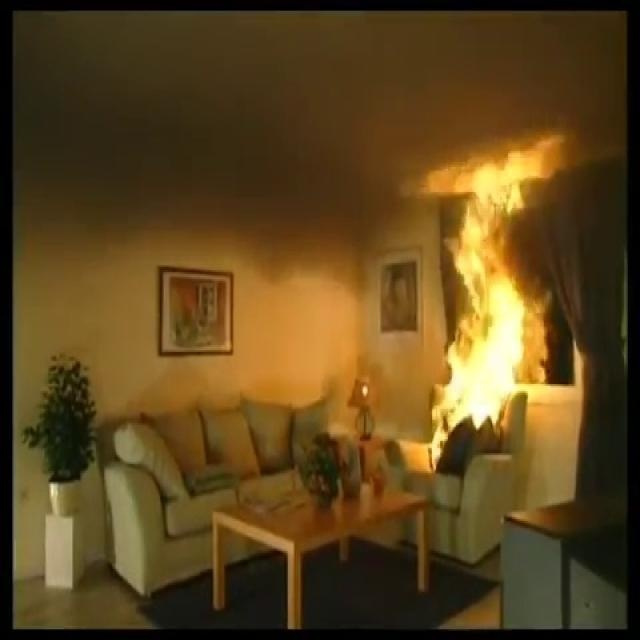fire: (417, 162, 553, 438)
smoke: (17, 14, 426, 232)
